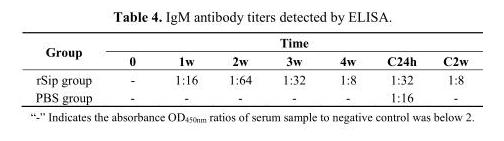table: (34, 34, 467, 104)
table column: (34, 34, 110, 104), (370, 34, 429, 104), (154, 34, 212, 104), (266, 34, 322, 104), (212, 34, 266, 104), (322, 34, 370, 104), (110, 34, 154, 104), (429, 34, 467, 104)
table column header: (34, 34, 467, 69)
table row: (34, 51, 467, 69), (34, 69, 467, 87), (34, 34, 467, 51), (34, 87, 467, 104)
table spanning cell: (110, 34, 467, 51), (34, 34, 110, 69)
